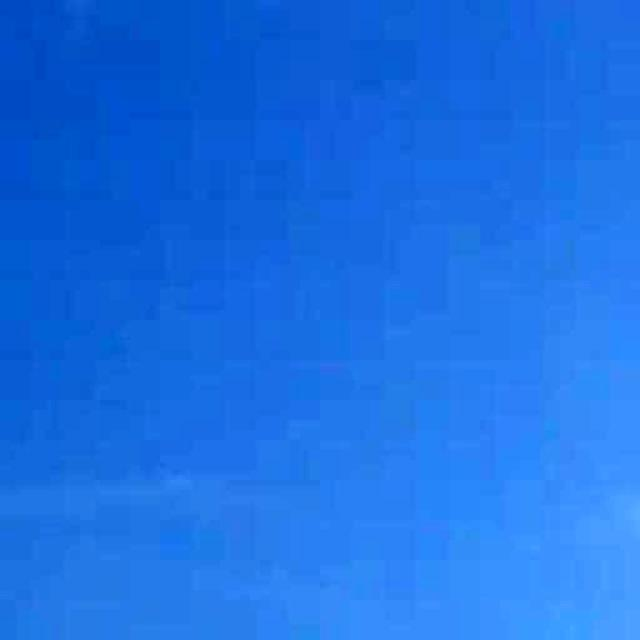drone: (199, 622, 251, 640)
